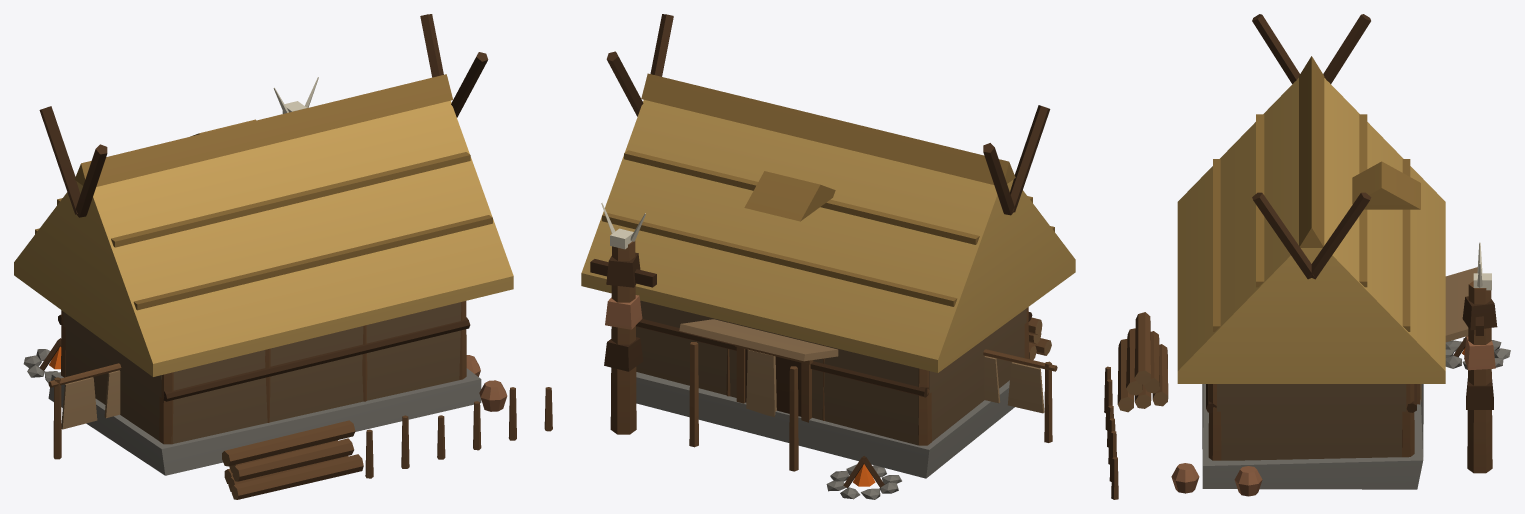
Rendered from town_center_s2.glb.
3 renders of one model, left to right at view 1: azimuth 30°, elevation 25°; view 2: azimuth 150°, elevation 25°; view 3: azimuth 270°, elevation 25°, orthographic. The views are drawn at different scales.
Visible parts, largest first — view 1: town_center_s2; view 2: town_center_s2; view 3: town_center_s2.
Part boxes in pixels (left/top/right/bottom): town_center_s2: left=14, top=14, right=552, bottom=499; town_center_s2: left=581, top=14, right=1075, bottom=499; town_center_s2: left=1104, top=14, right=1510, bottom=499.
Size of the model in its own units: 3.31 by 2.45 by 2.9.
